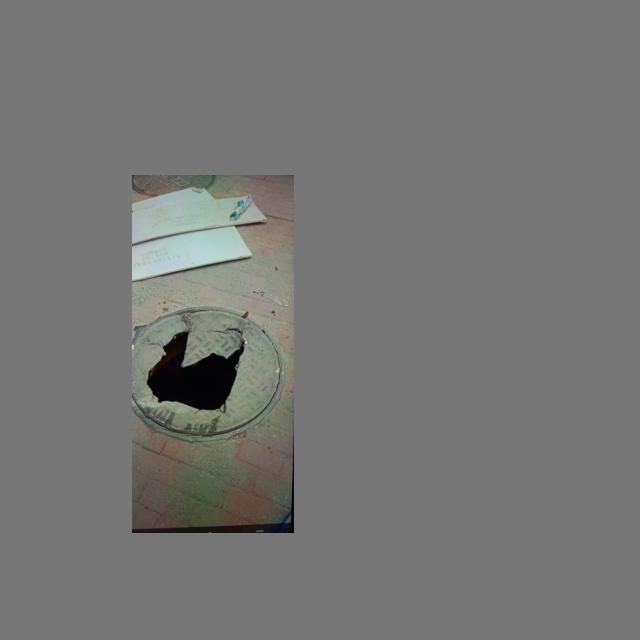broke: (133, 306, 286, 442)
